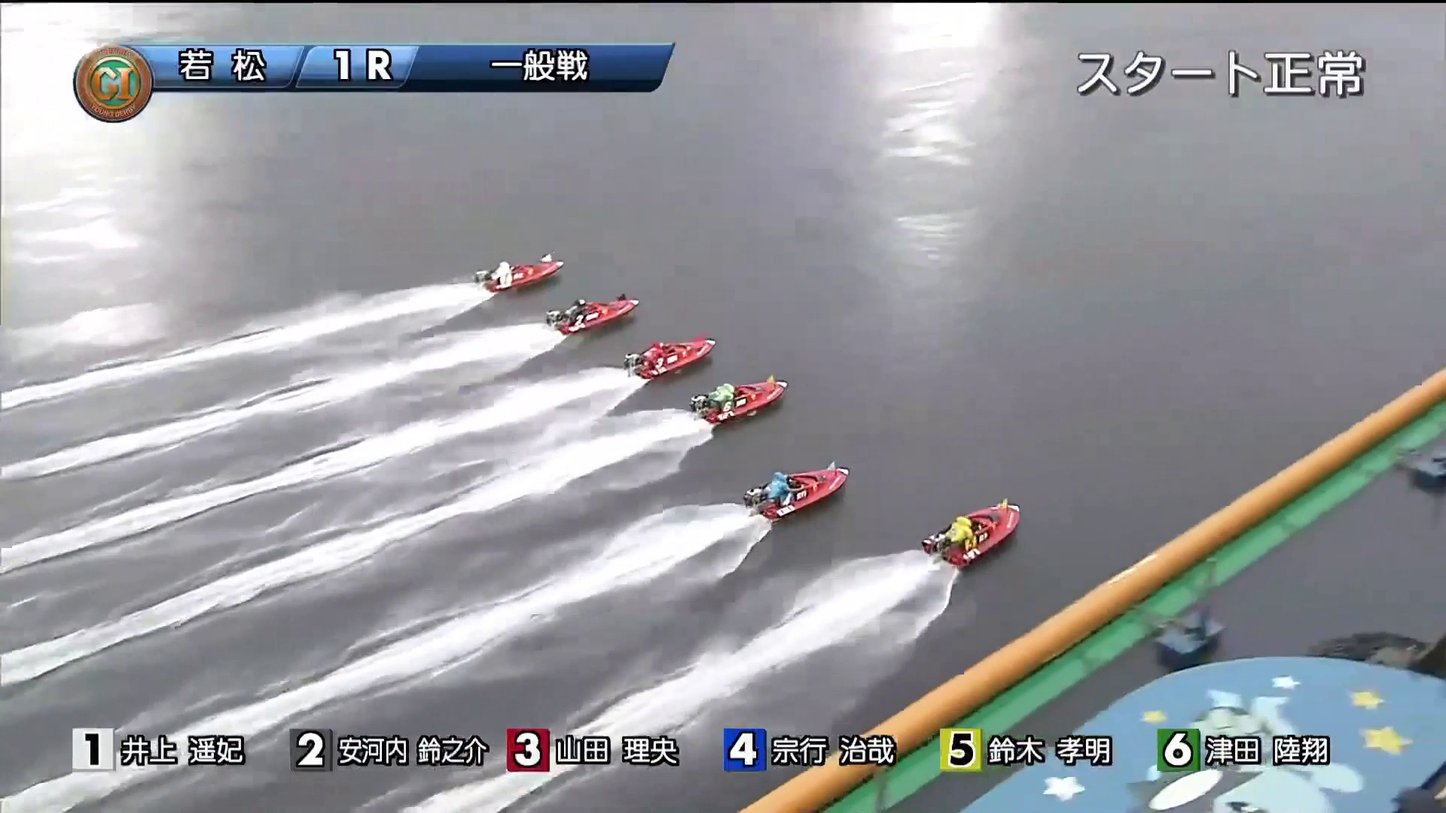１号艇: (771, 310, 847, 350)
２号艇: (629, 305, 718, 343)
３号艇: (655, 343, 746, 384)
４号艇: (682, 391, 787, 434)
５号艇: (675, 455, 795, 510)
６号艇: (796, 506, 895, 563)
